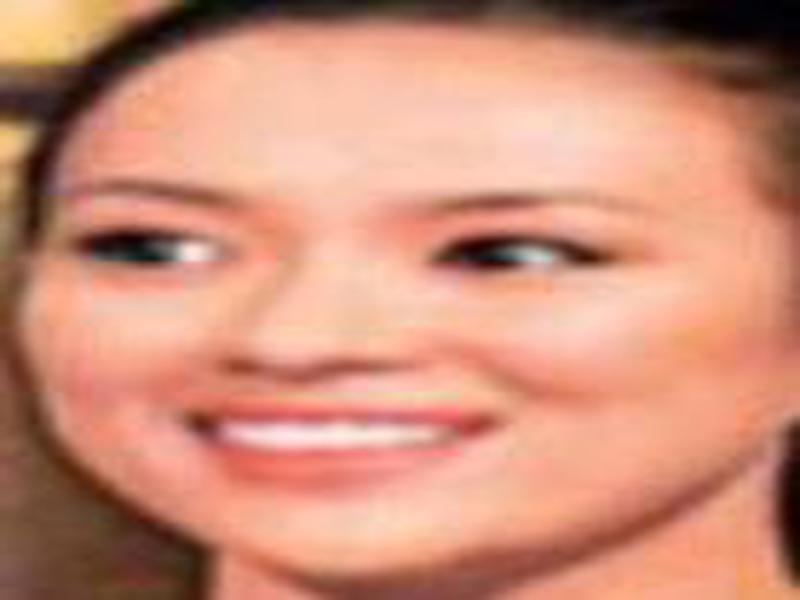without_mask: (11, 118, 781, 578)
